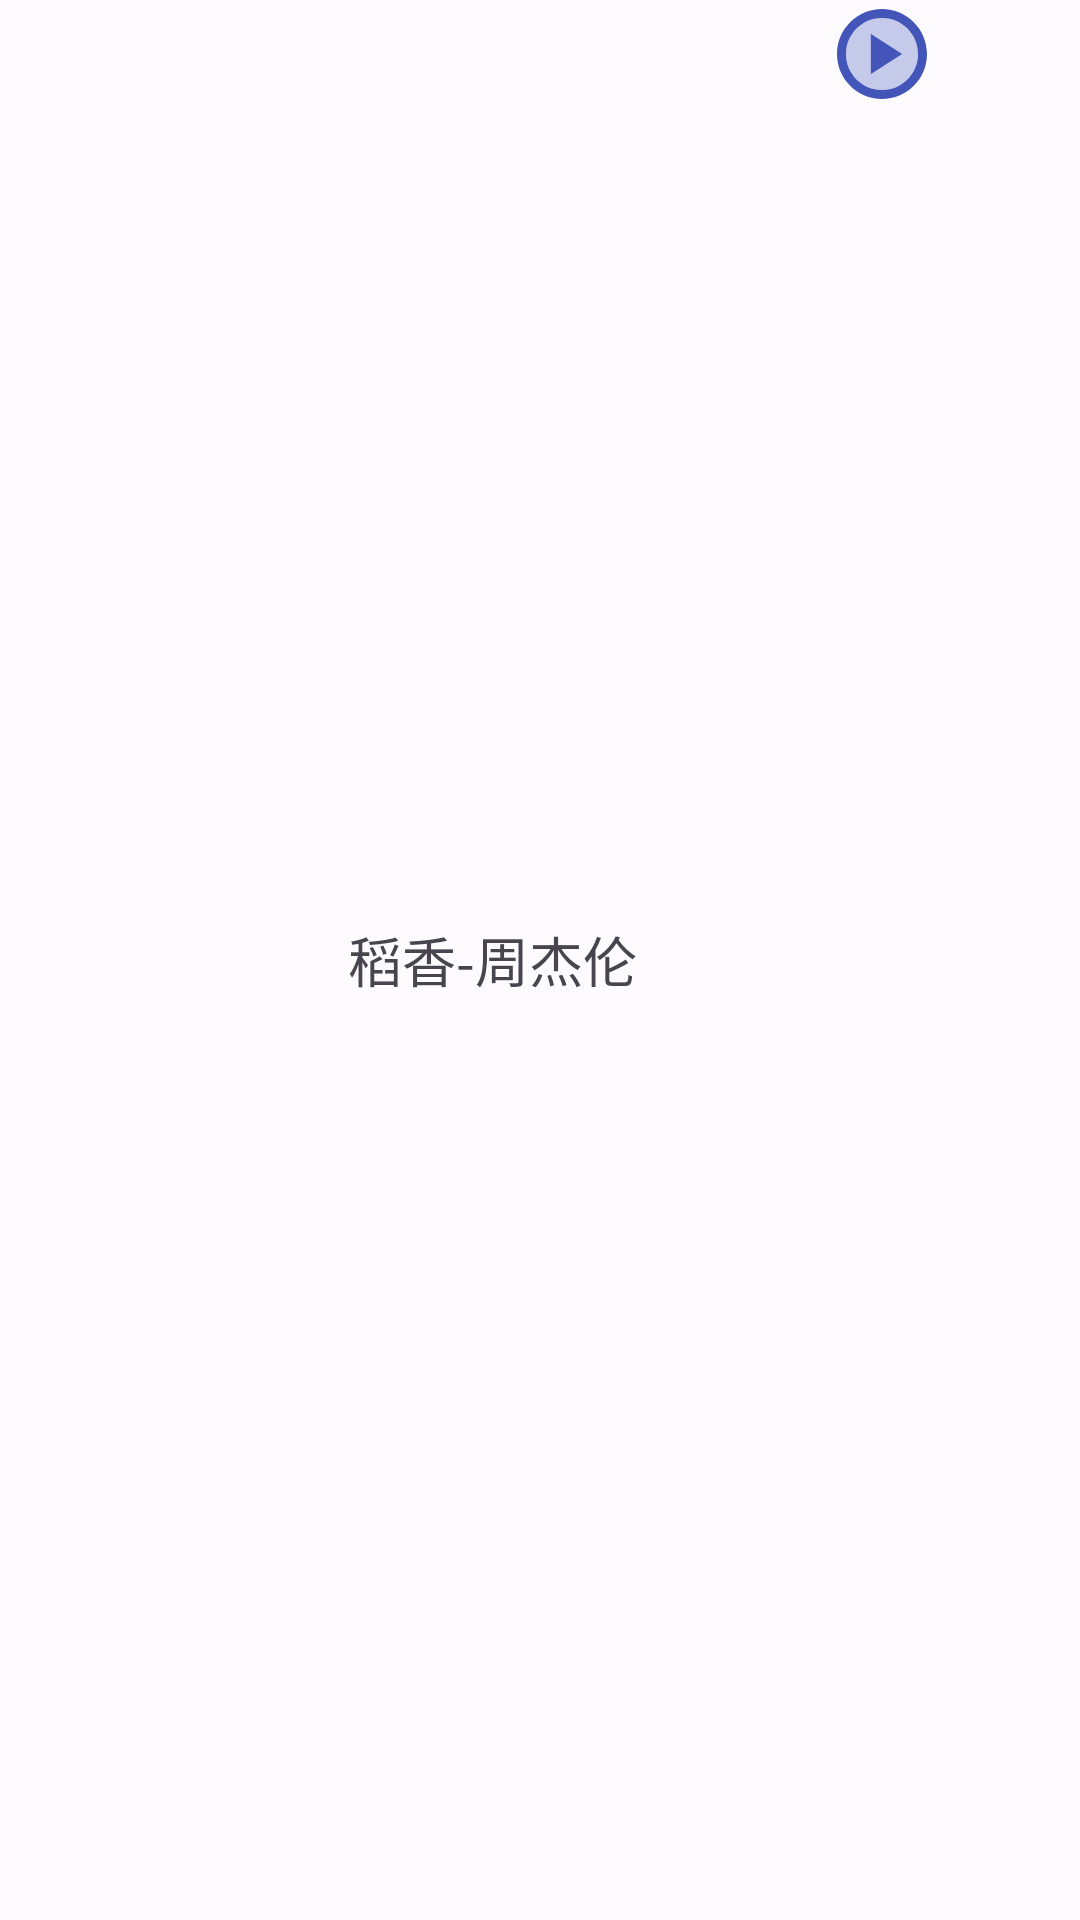

Icon bounding boxes for this 1080w x 1920h phone screenshot, format [x1, y1, x2, y2]:
play circle: [837, 9, 927, 99]
